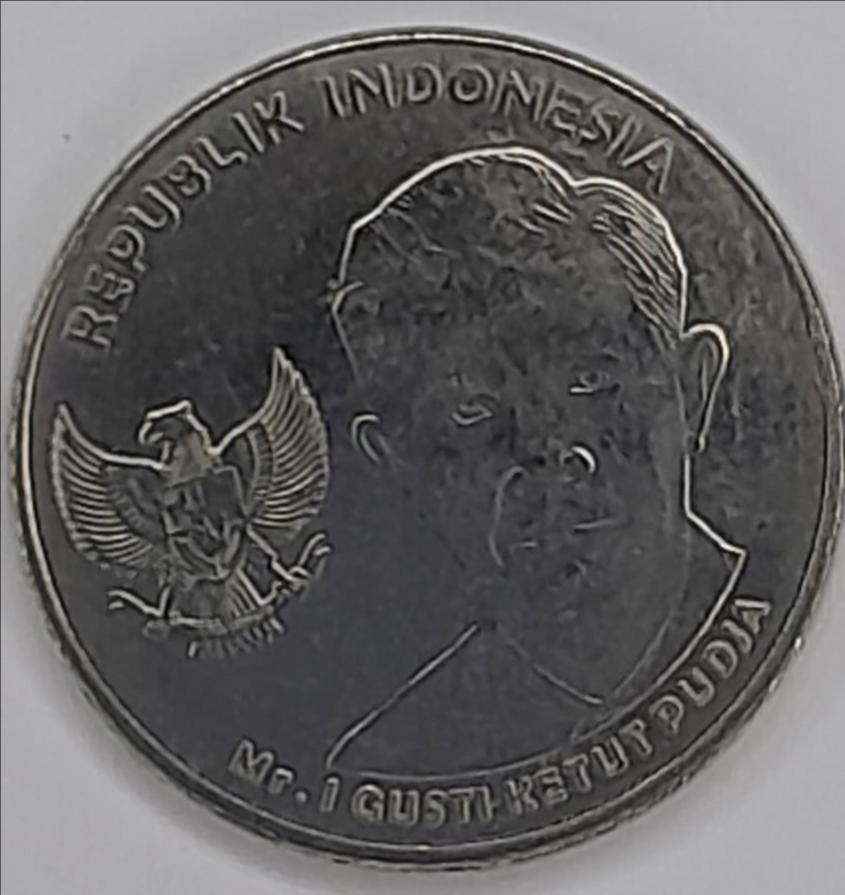coin_1000_e2016: (14, 18, 834, 895)
